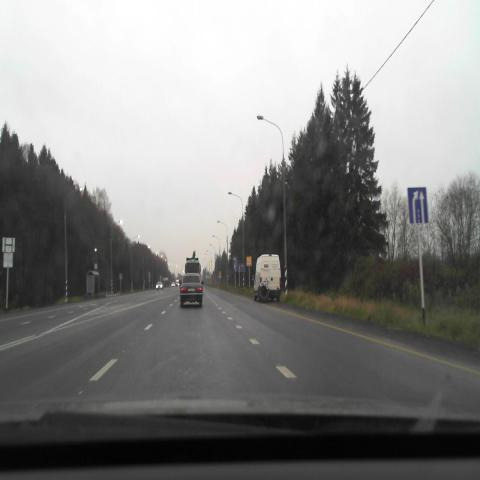5_15_5: (407, 187, 429, 223)
